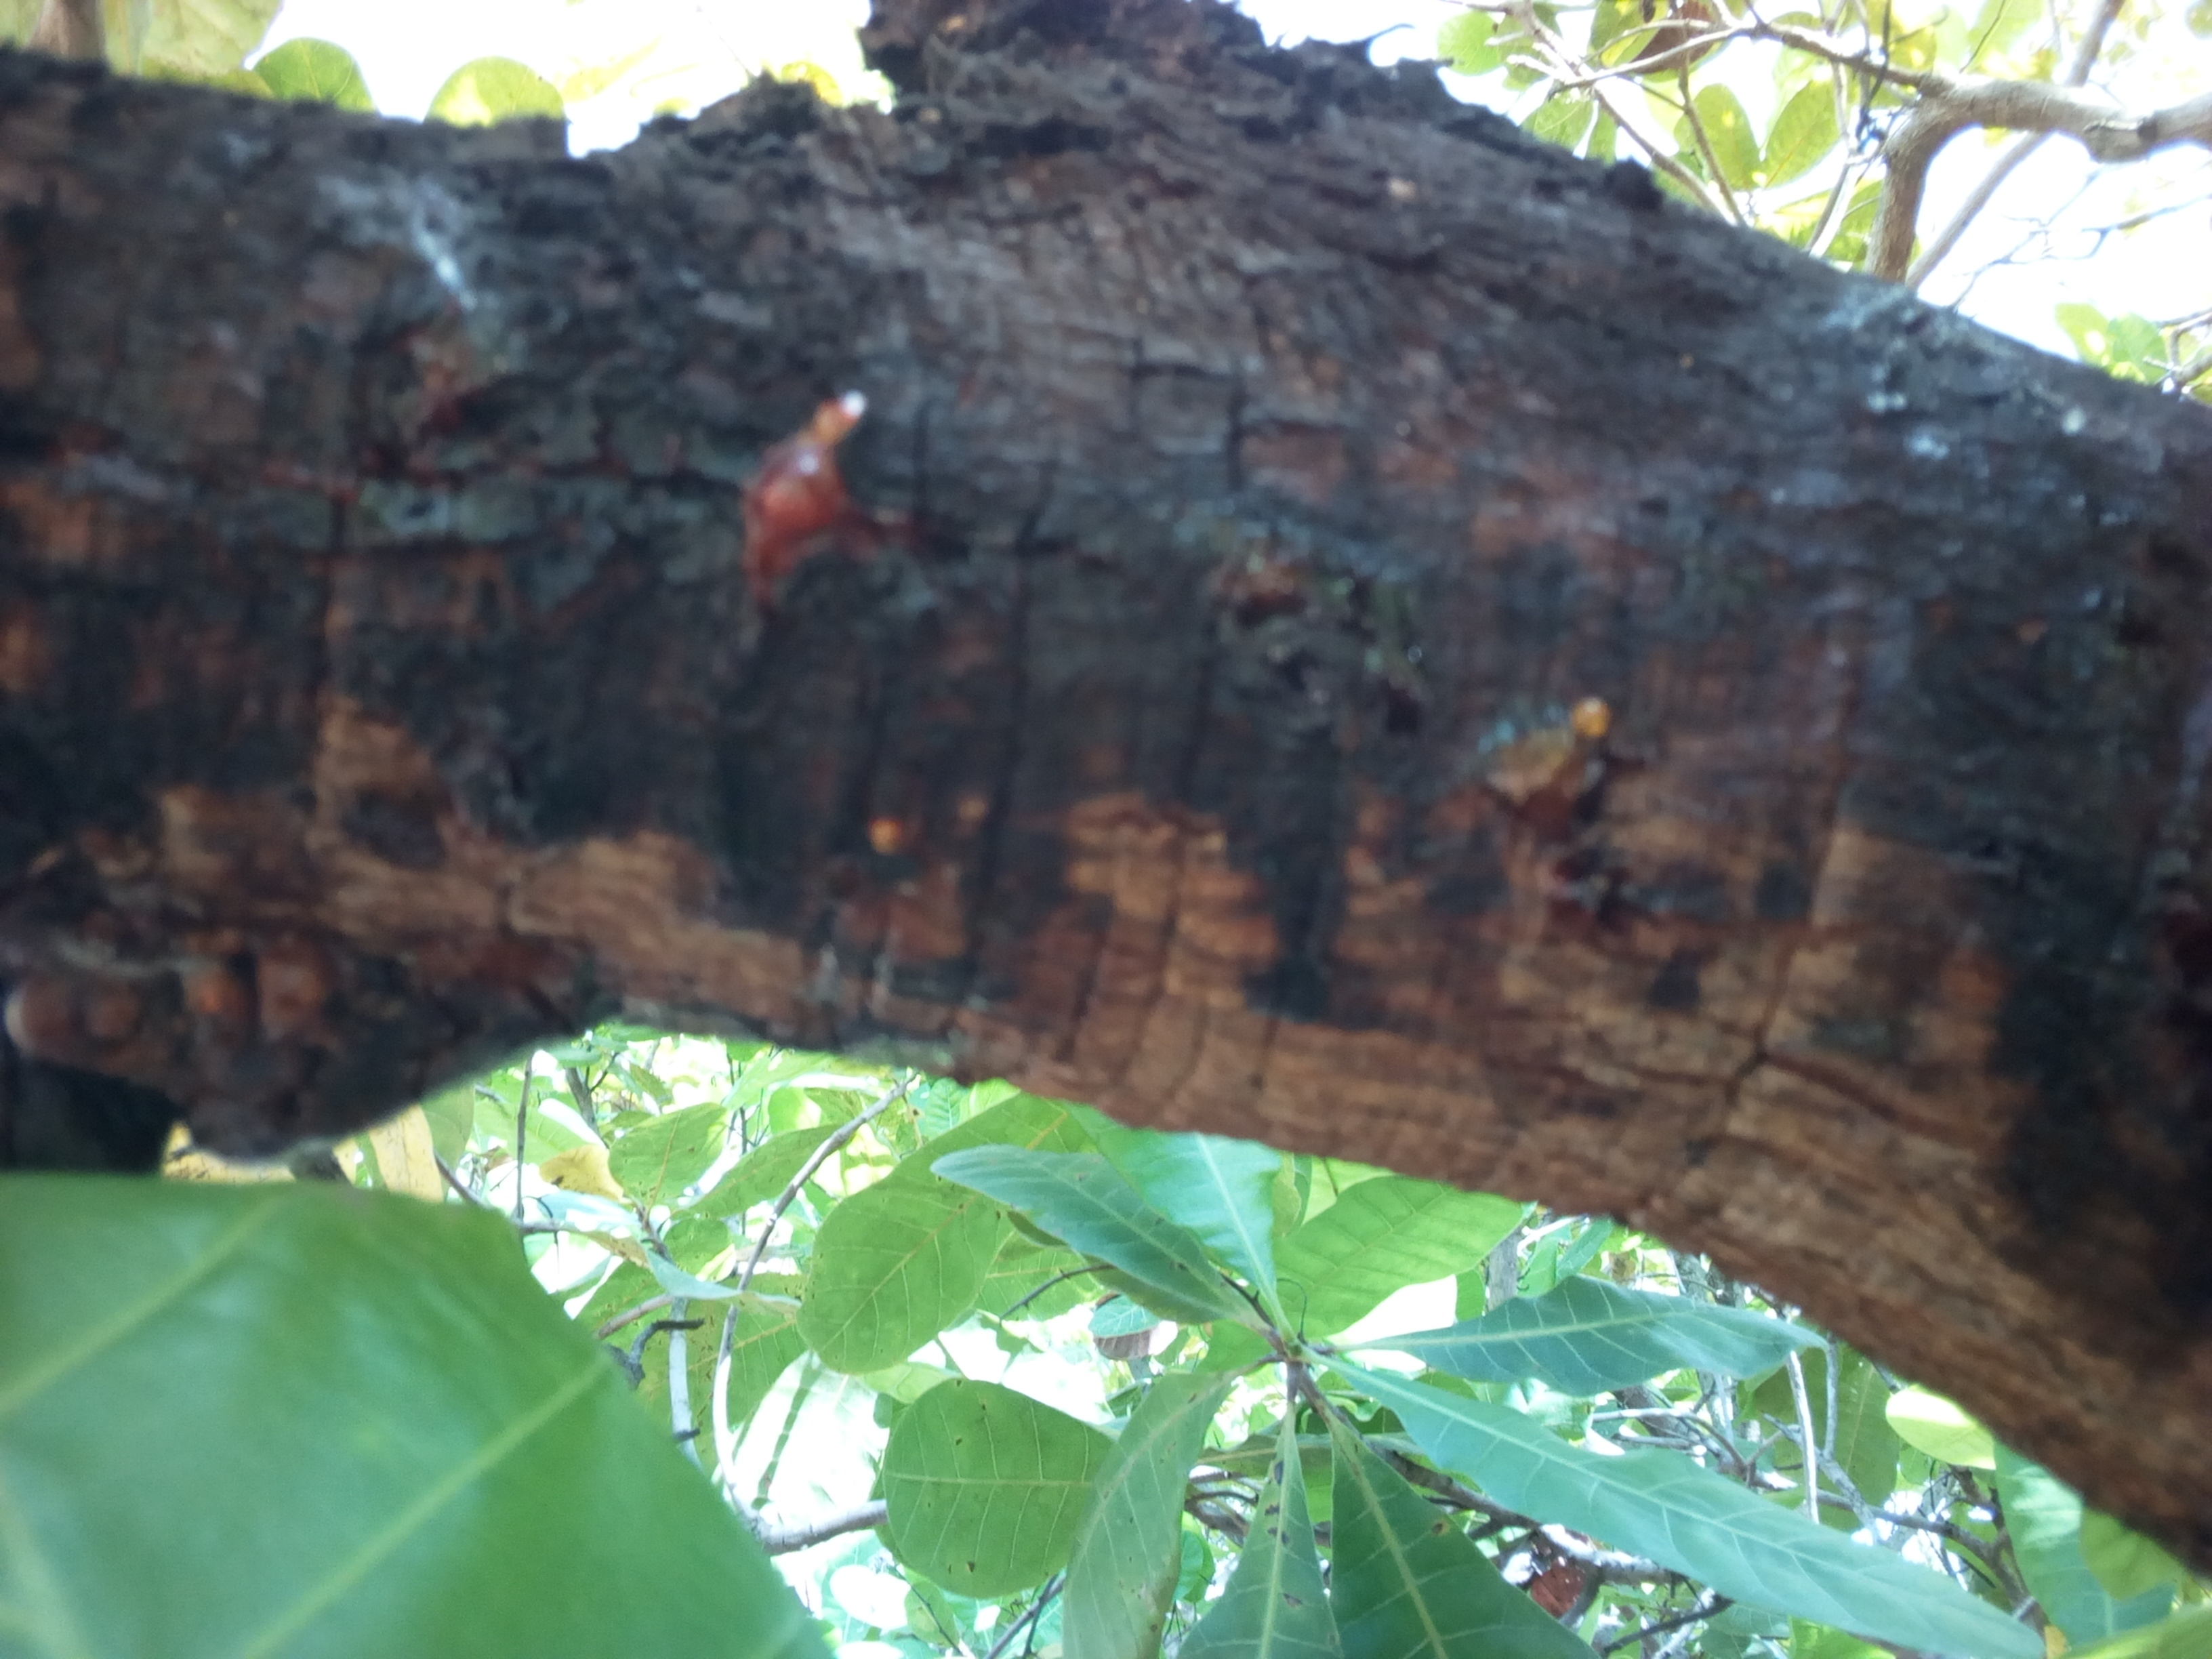Gommose: (31, 139, 2212, 1115)
